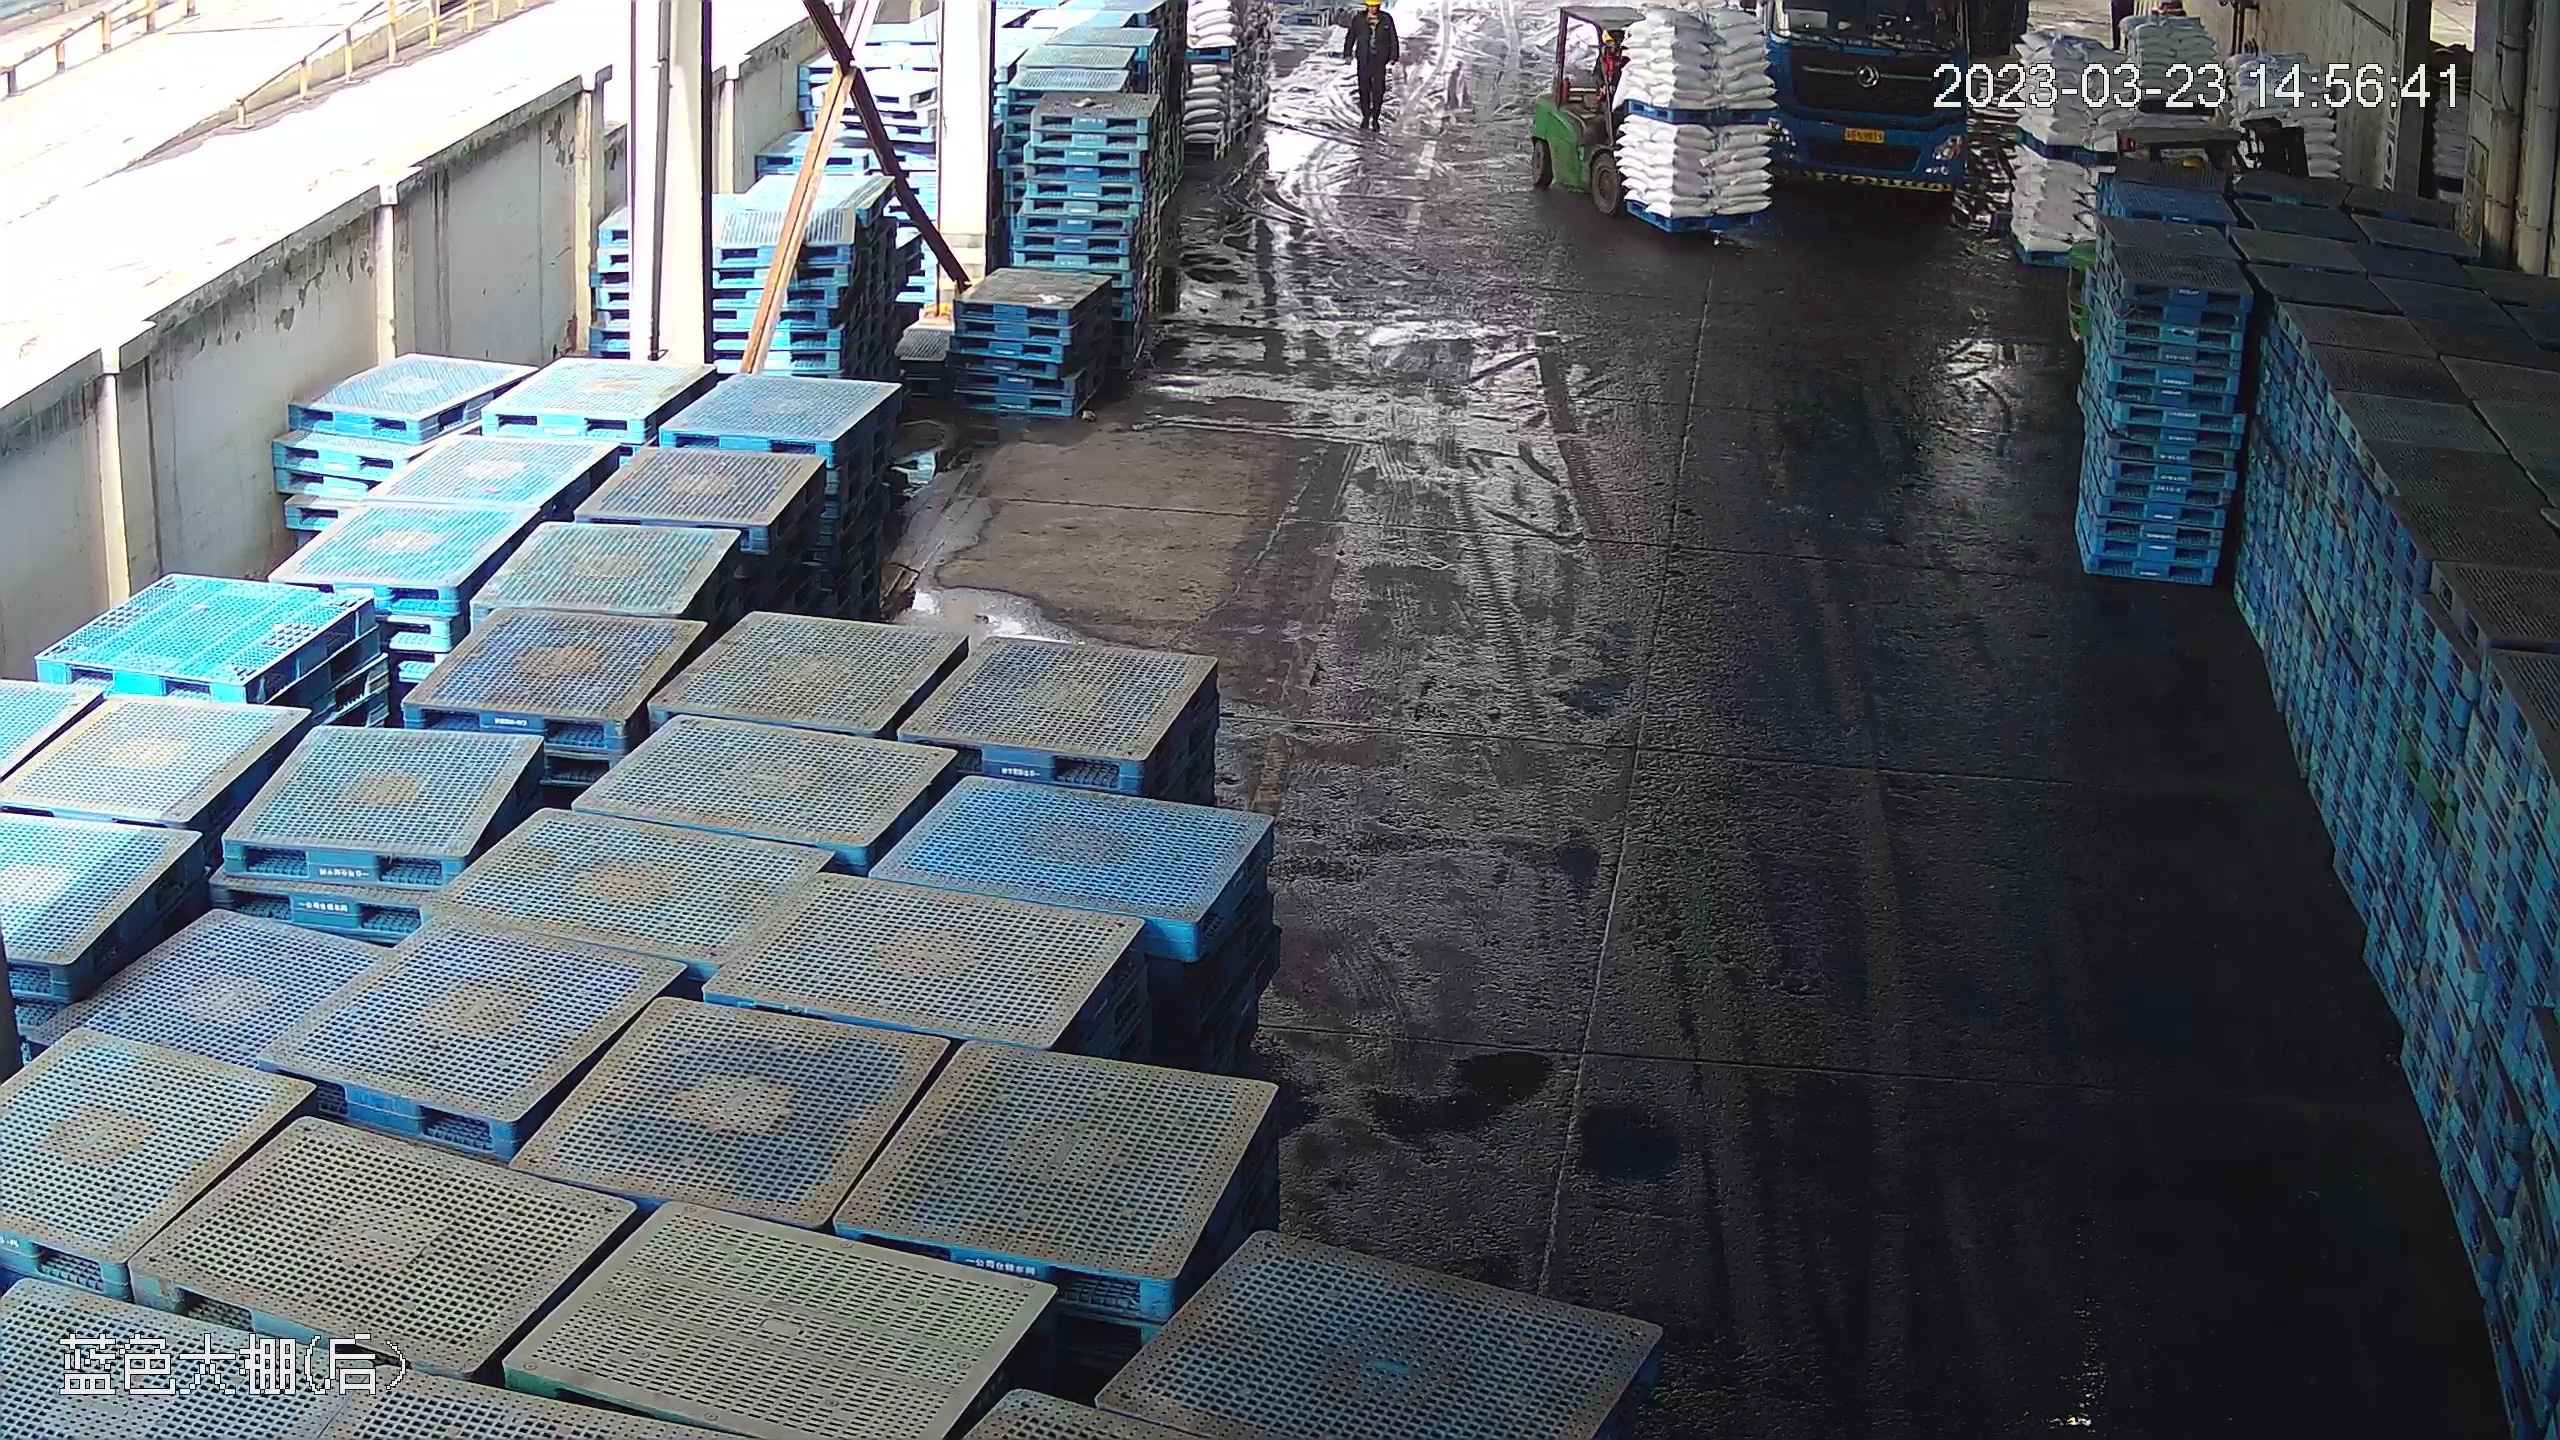head: (1349, 0, 1396, 38)
helmet: (1353, 0, 1392, 28)
people: (1344, 0, 1401, 141)
